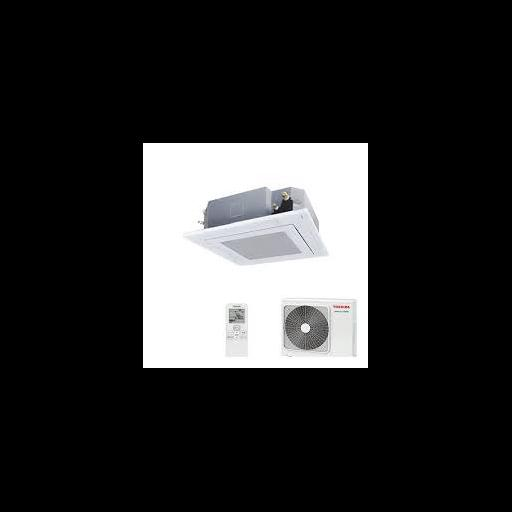4-way-ac: (184, 208, 329, 267)
